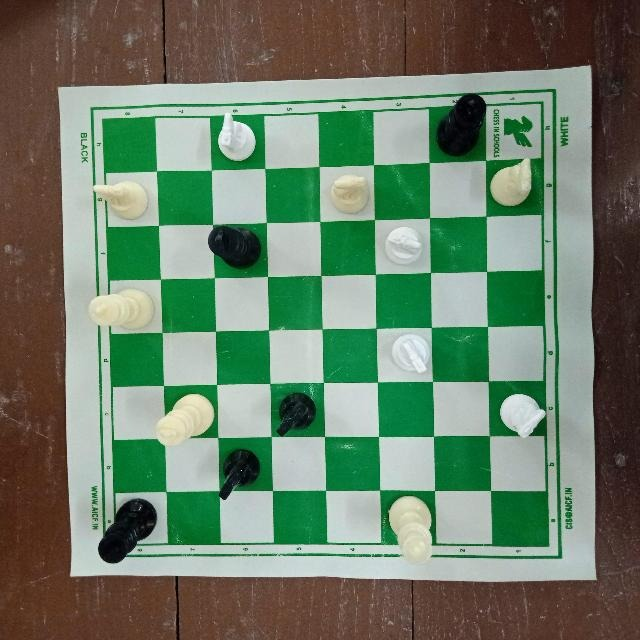black-king: (95, 494, 161, 566), (437, 83, 493, 161), (201, 219, 266, 268)
black-knight: (211, 448, 265, 502), (275, 387, 323, 438)
white-king: (149, 391, 220, 448), (86, 284, 156, 336)
white-knight: (488, 153, 540, 208), (92, 177, 150, 224), (383, 327, 433, 379), (378, 223, 429, 271), (322, 170, 374, 217), (216, 111, 261, 163), (498, 392, 546, 440)
white-queen: (386, 492, 436, 569)
